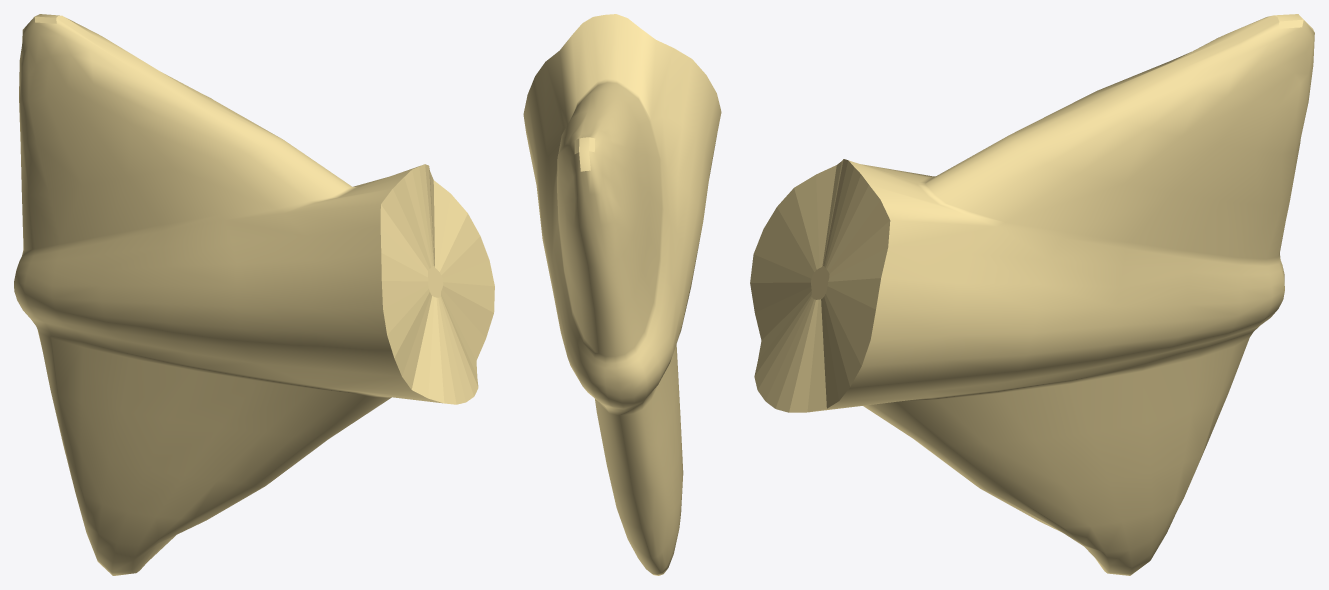
Rendered from Sacabambaspis_Tail_1.fbx.
3 renders of one model, left to right at view 1: azimuth 30°, elevation 25°; view 2: azimuth 150°, elevation 25°; view 3: azimuth 270°, elevation 25°, orthographic. The views are drawn at different scales.
Parts seen in each view (by area): view 1: polySurface2; view 2: polySurface2; view 3: polySurface2.
Boxes of the visible parts, <box> form: polySurface2: <box>14,14,494,575</box>; polySurface2: <box>523,14,721,575</box>; polySurface2: <box>750,14,1314,575</box>.
Bounding box in the file's own units: 26.27 × 41.71 × 37.95.
